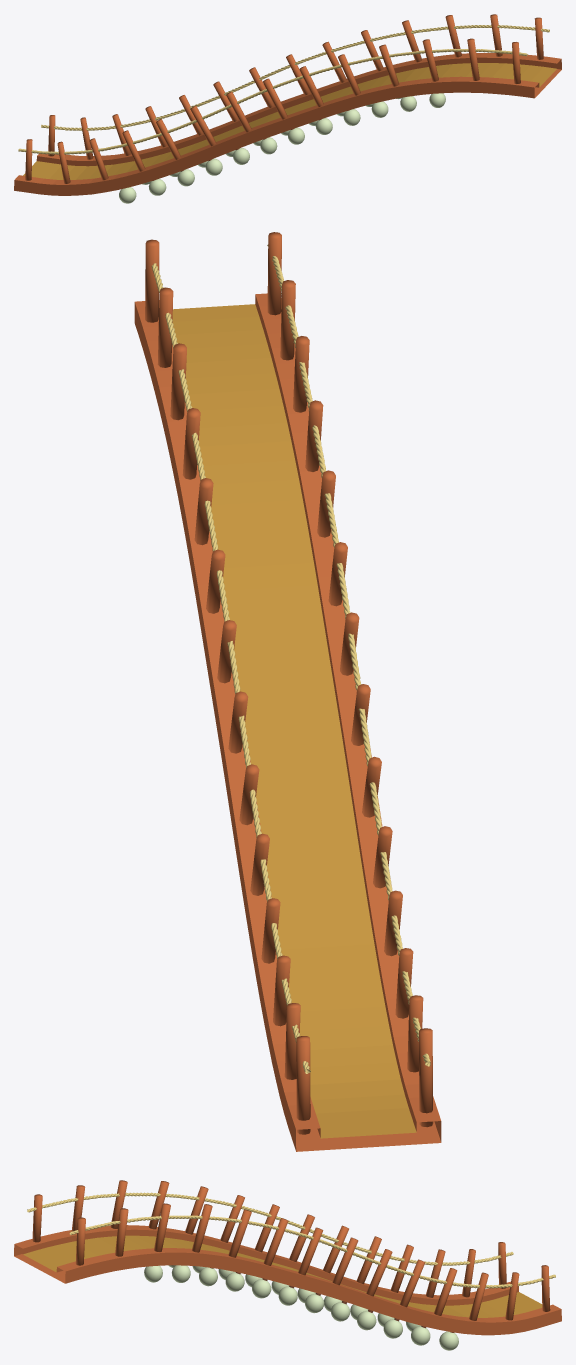
The model's file is testmodelsRope_Twist_005.fbx.
3 renders of one model, top to bottom at view 1: azimuth 30°, elevation 25°; view 2: azimuth 150°, elevation 25°; view 3: azimuth 270°, elevation 25°, orthographic. The views are drawn at different scales.
Visible parts, largest first — view 1: Rope.Twist.005; view 2: Rope.Twist.005; view 3: Rope.Twist.005.
Boxes of the visible parts, x1,y1,x2,y2 form: Rope.Twist.005: (14,14,561,203); Rope.Twist.005: (134,232,441,1151); Rope.Twist.005: (14,1180,561,1350).
Size of the model in its own units: 1115 by 697 by 1337.
